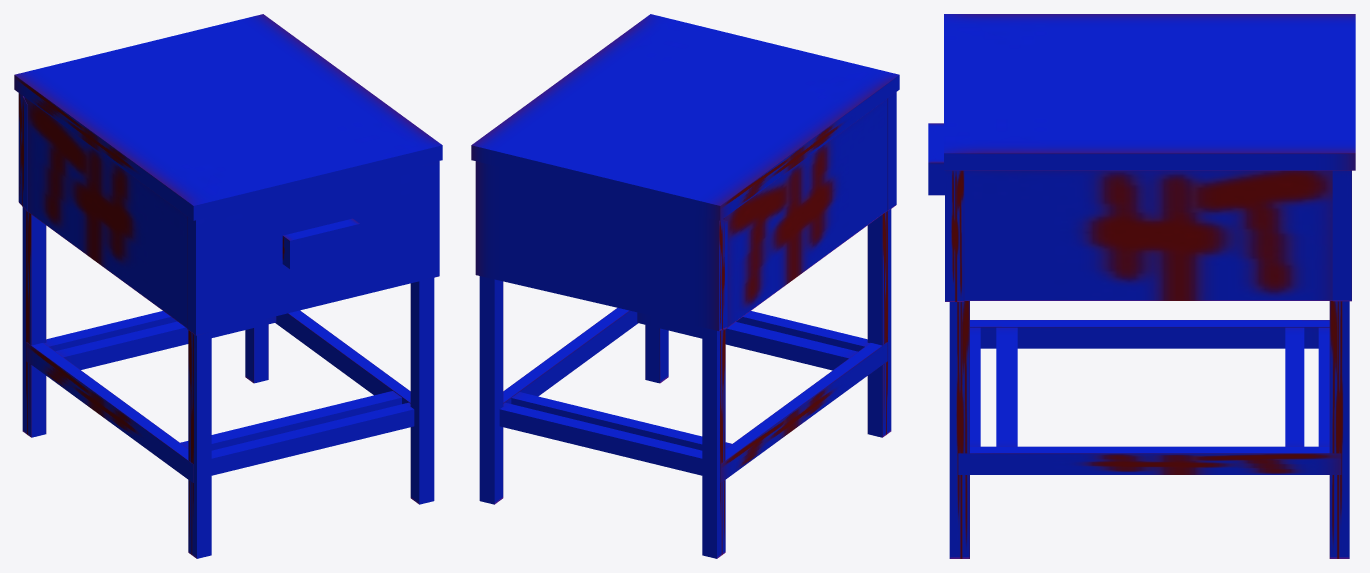
The model's file is table.fbx.
3 renders of one model, left to right at view 1: azimuth 30°, elevation 25°; view 2: azimuth 150°, elevation 25°; view 3: azimuth 270°, elevation 25°, orthographic. The views are drawn at different scales.
Visible parts, largest first — view 1: pCube4; view 2: pCube4; view 3: pCube4.
Boxes of the visible parts, bbox=[...] form: pCube4: bbox=[14, 14, 442, 558]; pCube4: bbox=[471, 14, 899, 558]; pCube4: bbox=[928, 14, 1355, 558].
Bounding box in the file's own units: 9.14 × 12.5 × 11.84.
1 material, 1 textured.
